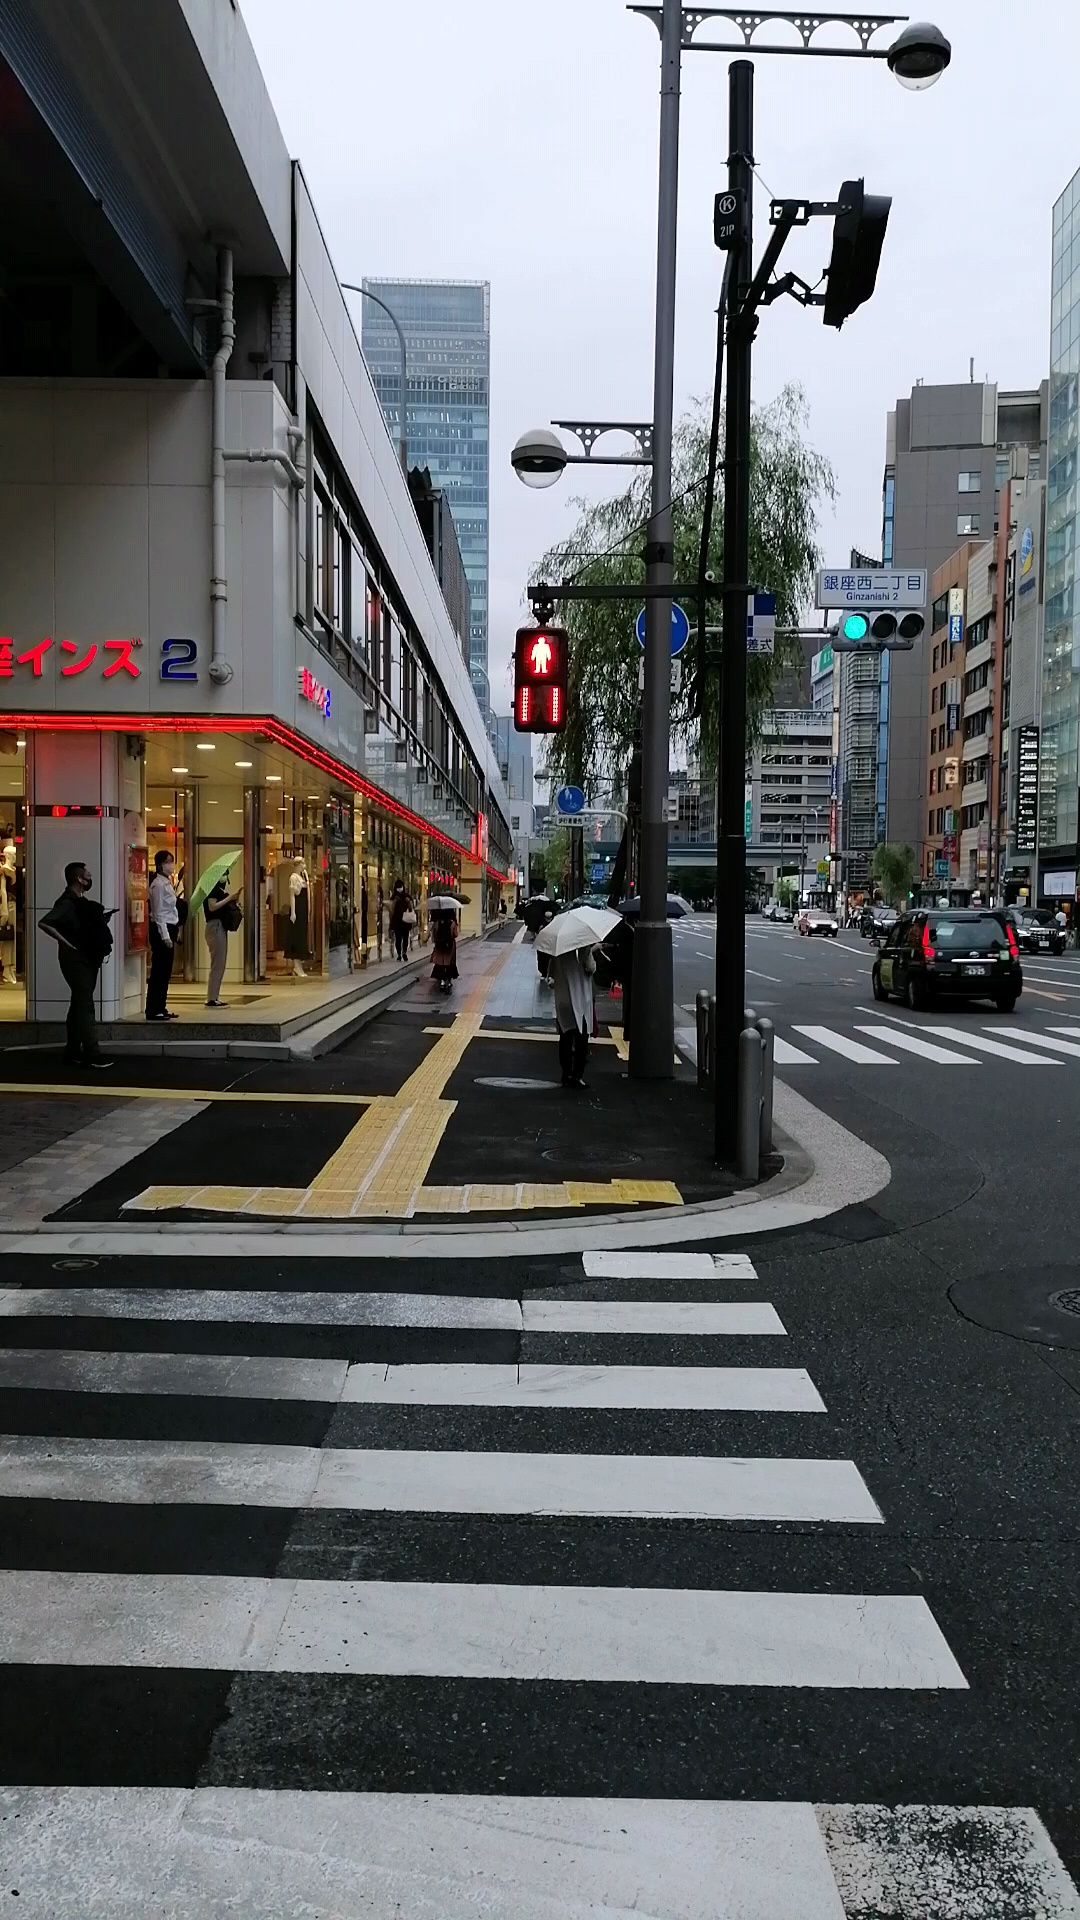red: (516, 629, 563, 731)
